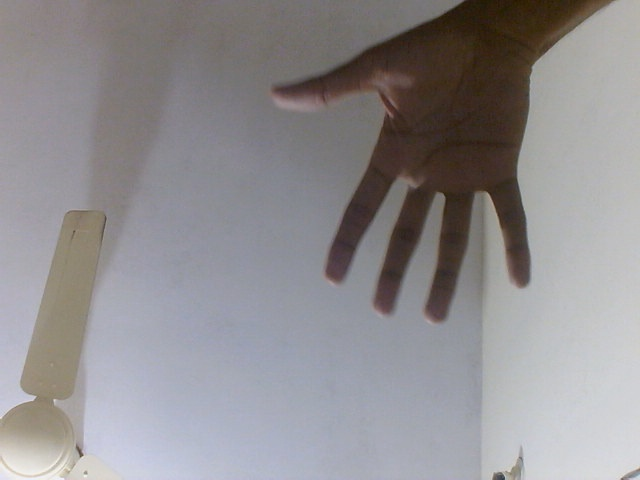hand: (266, 2, 541, 328)
